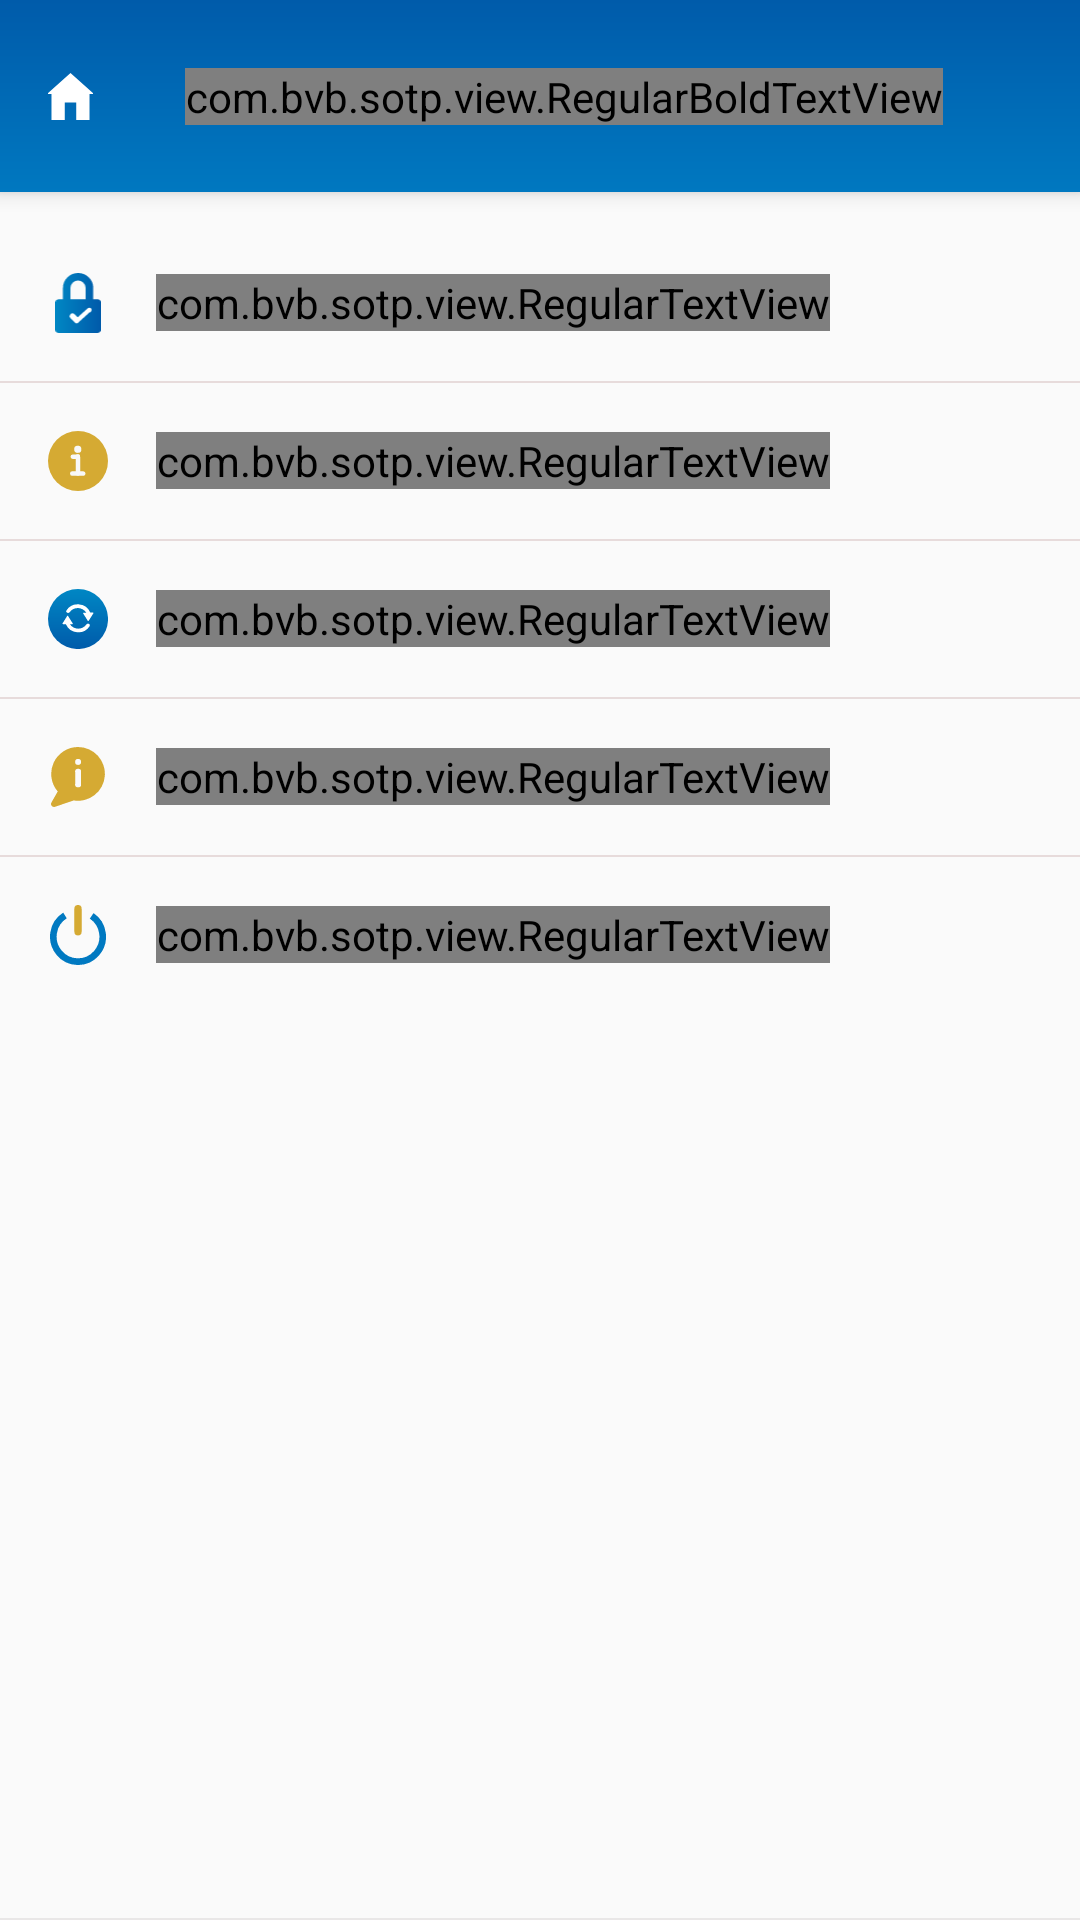

Icons on this 1080w x 1920h Android screen, each with its box as (x1, y1, x2, y2):
home: (48, 73, 93, 120)
hotro: (51, 747, 105, 807)
info: (48, 431, 108, 491)
security: (55, 273, 101, 333)
sync: (48, 589, 108, 649)
